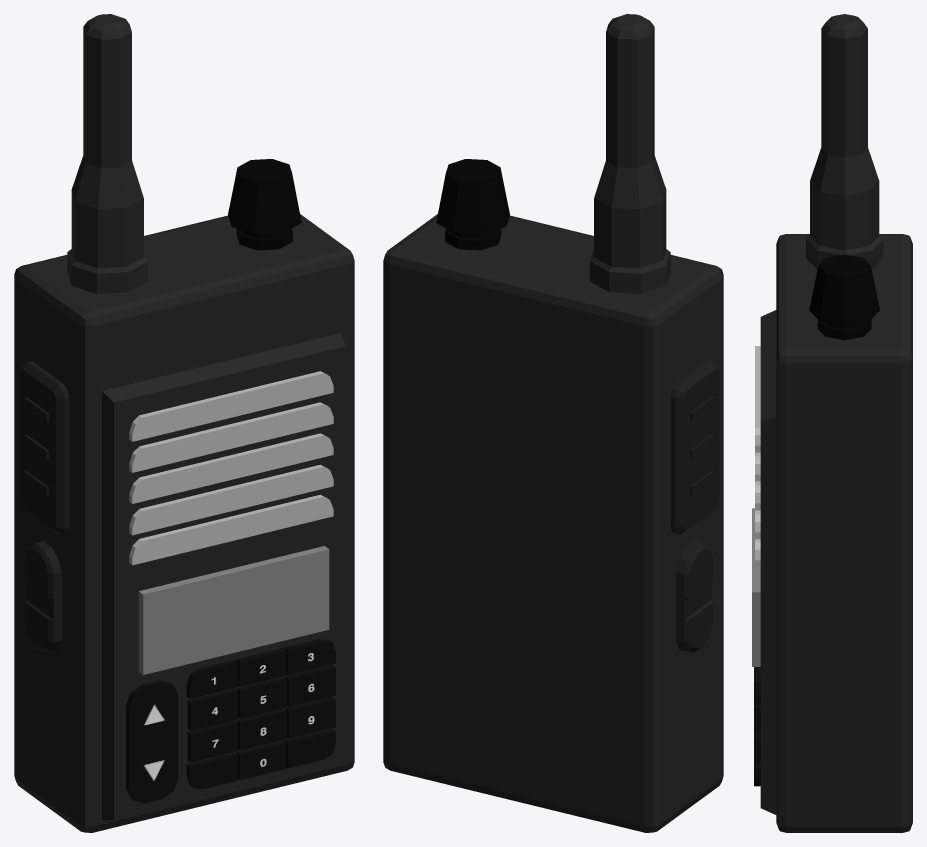
File: Radio.fbx
3 views of the same model, side by side, from view 1: azimuth 30°, elevation 25°; view 2: azimuth 150°, elevation 25°; view 3: azimuth 270°, elevation 25° (orthographic). The views are drawn at different scales.
Visible parts, largest first — view 1: Box001; view 2: Box001; view 3: Box001.
Boxes of the visible parts, left/top/right/bottom form: Box001: left=14, top=14, right=354, bottom=832; Box001: left=383, top=14, right=723, bottom=832; Box001: left=752, top=14, right=912, bottom=832.
Bounding box in the file's own units: 2.96 × 7.66 × 1.55.
1 material, 1 textured.
